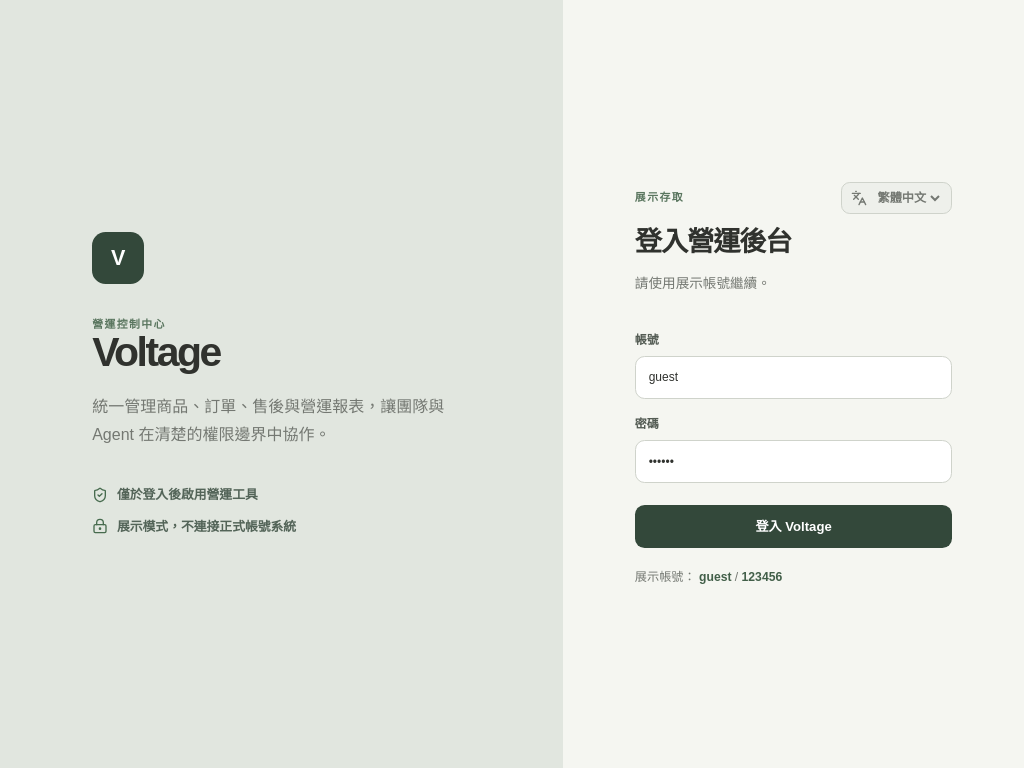
展示登入流程 › 可在登入前切換介面語言
Select "English" in the dropdown named "切換語言" at (908, 198), box x1=874 y1=190 x2=942 y2=206
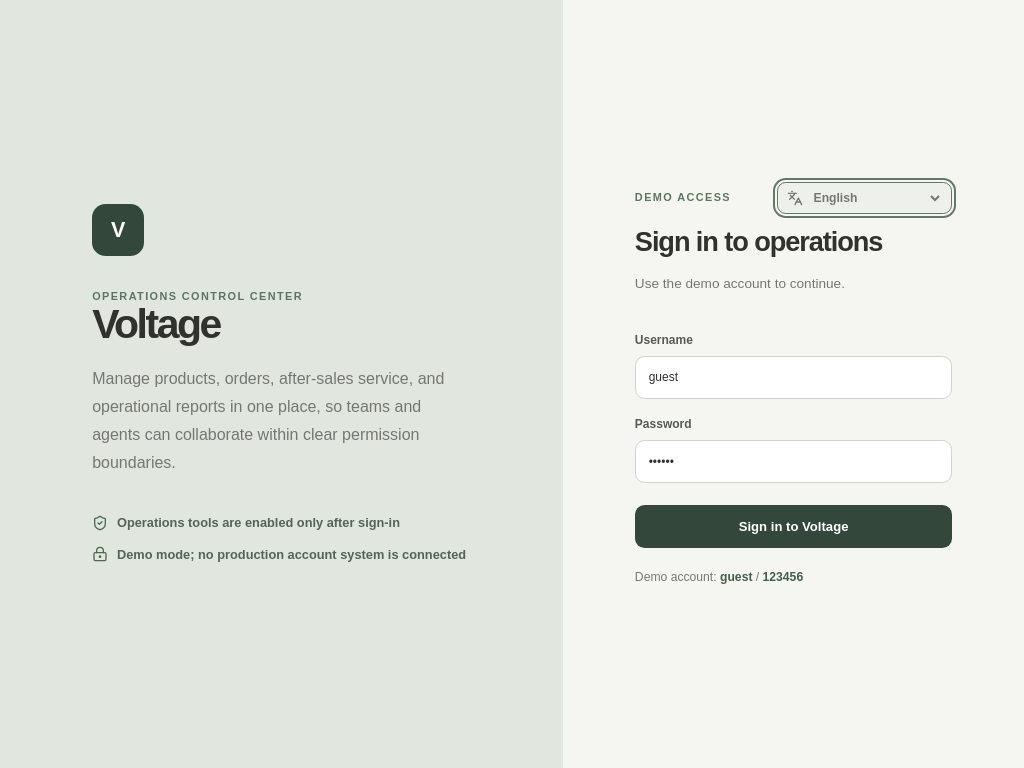
Expected: the field labelled "Username" is shown, x1=635 y1=356 x2=952 y2=399
Expected: the heading "Sign in to operations" is shown, x1=635 y1=226 x2=882 y2=257
Expected: the button "Sign in to Voltage" is shown, x1=635 y1=505 x2=952 y2=548
